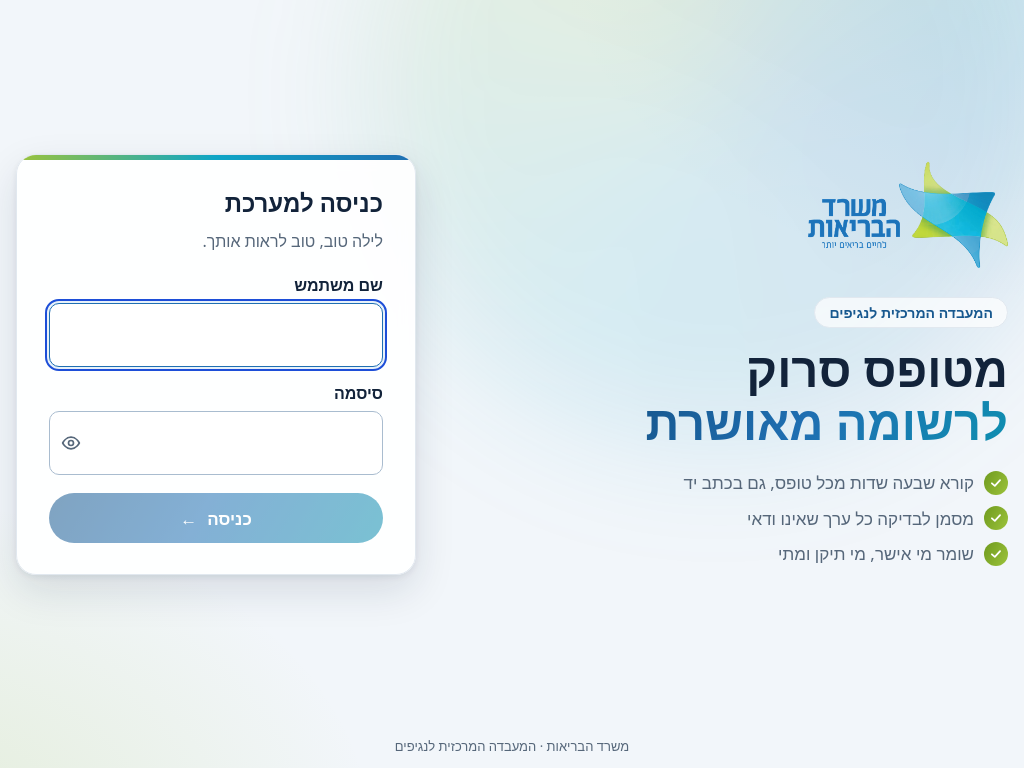
Scenario: LoginPage › a wrong password shows one message and clears the password
This screenshot has width=1024, height=768.
Type "dana" into the field labelled "שם משתמש" at [216, 335], box [49,303,383,367]
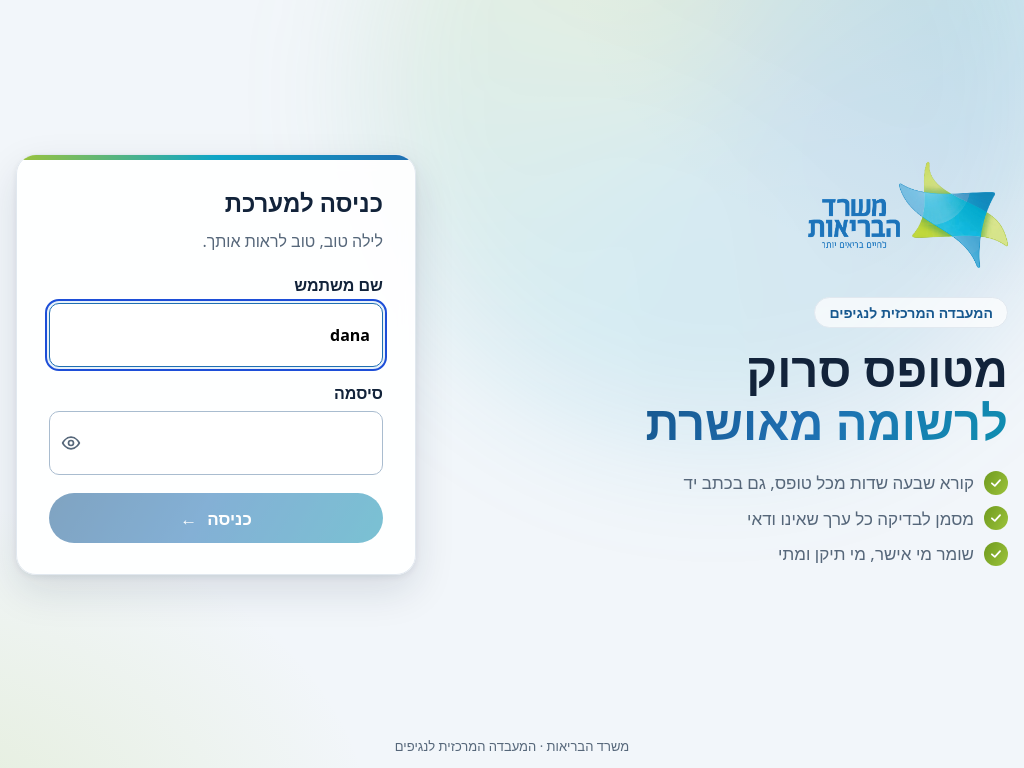
Type "wrong password" into the password field labelled "סיסמה" at [216, 443], box [49,411,383,475]
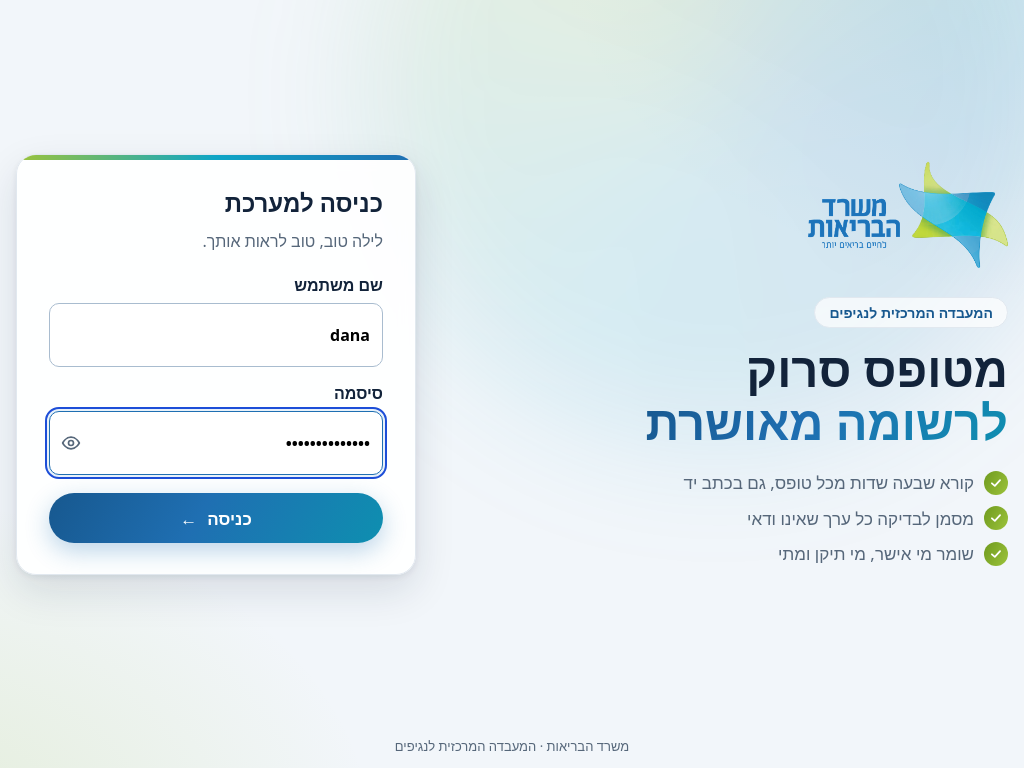
Click the button "כניסה ←" at [216, 518], box [49,493,383,543]
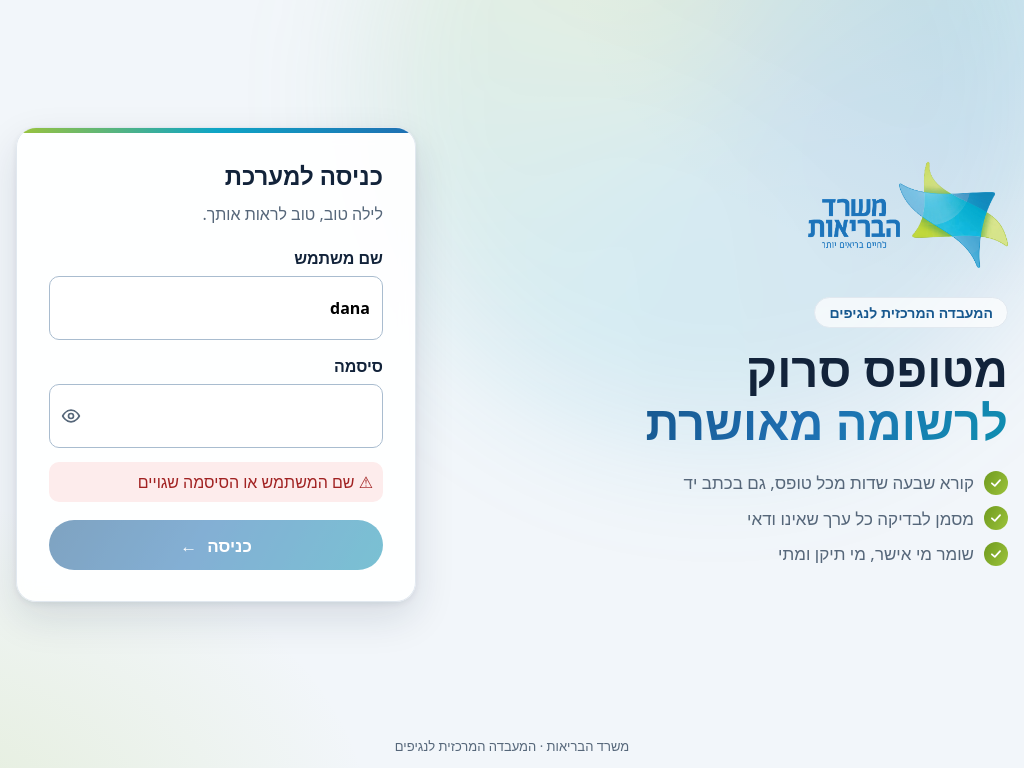
Result: the message shows "שם המשתמש או הסיסמה שגויים" at [138,471,354,493]
Result: the password field labelled "סיסמה" is empty at [49,384,383,448]
